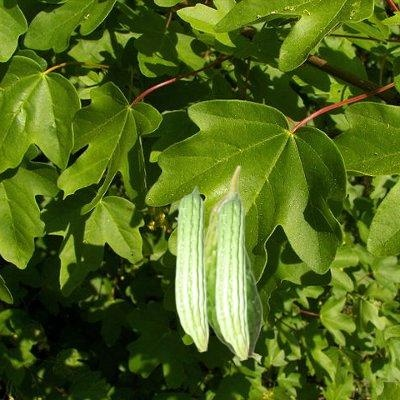ampalaya: (205, 165, 263, 361), (213, 192, 251, 361), (173, 185, 210, 354)
